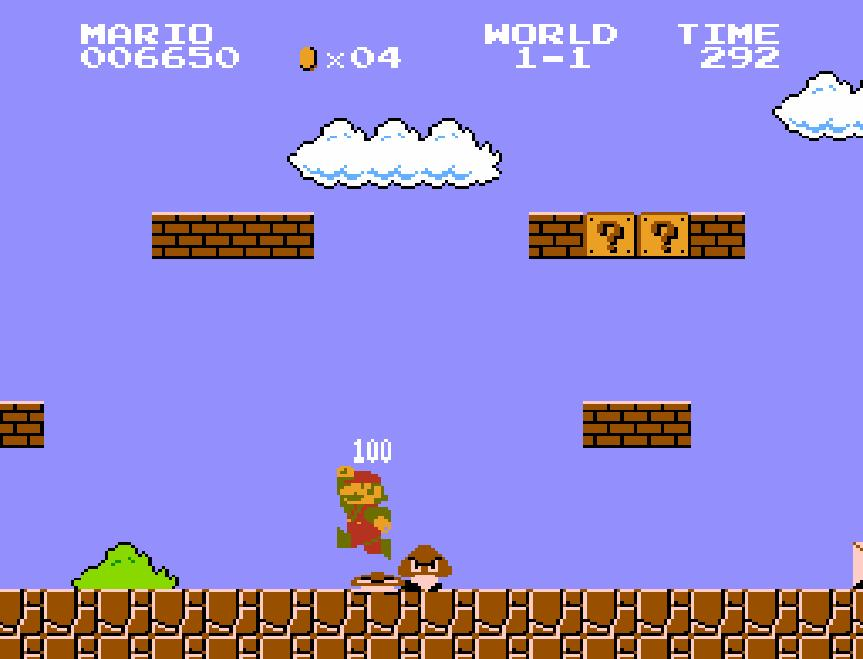big_mario: (335, 464, 393, 562)
